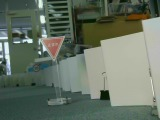stop: (37, 35, 67, 61)
